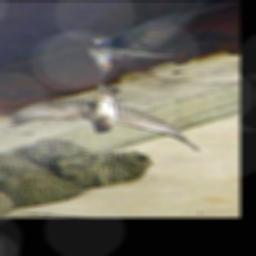Swallow: (4, 81, 204, 153)
